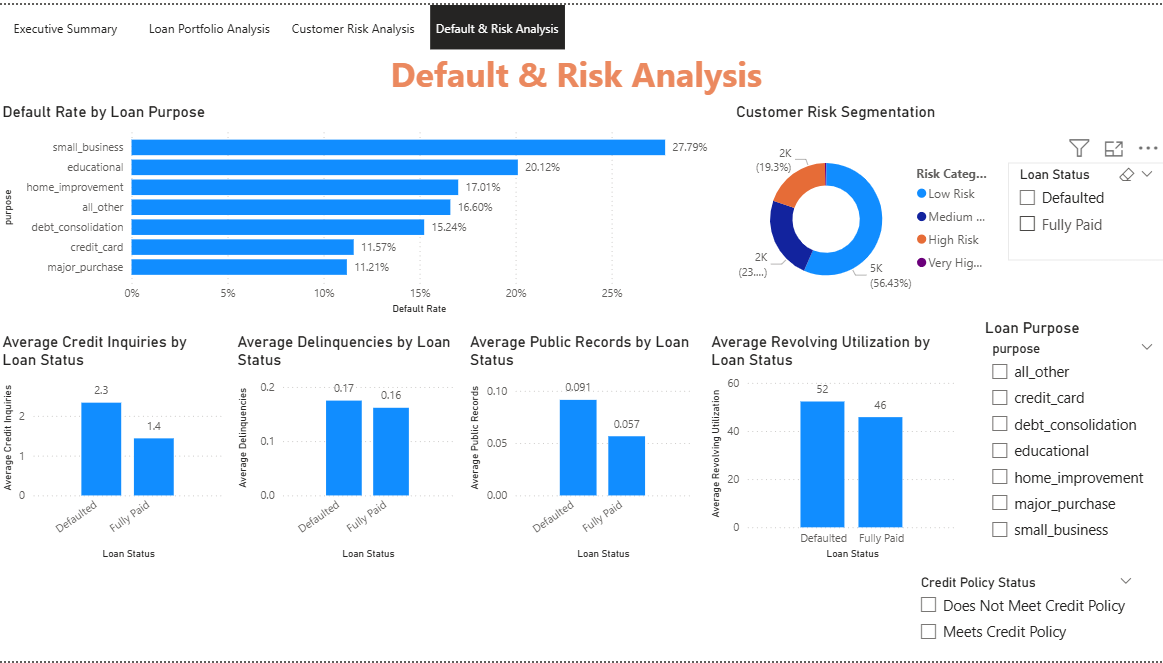

The page's visual inventory and layout, read from the dashboard file:
{"tool":"powerbi","page":{"name":"Default & Risk Analysis","canvas":[1280,720],"ordinal":3},"visuals":[{"type":"clusteredBarChart","title":"Default Rate by Loan Purpose","fields":{"Category":["loan_data.purpose"],"Y":["Mtable.Default Rate"]},"box":[0,107,795.9,237.4],"z":0},{"type":"clusteredColumnChart","title":"Average Revolving Utilization by Loan Status","fields":{"Category":["loan_data.Loan Status"],"Y":["Mtable.Average Revolving Utilization"]},"box":[778,359.5,279.9,253.9],"z":1000},{"type":"clusteredColumnChart","title":"Average Credit Inquiries by Loan Status","fields":{"Y":["Mtable.Average Credit Inquiries"],"Category":["loan_data.Loan Status"]},"box":[0,359.5,252.5,253.9],"z":2000},{"type":"clusteredColumnChart","title":"Average Delinquencies by Loan Status","fields":{"Y":["Mtable.Average Delinquencies"],"Category":["loan_data.Loan Status"]},"box":[258,359.5,247,253.9],"z":3000},{"type":"clusteredColumnChart","title":"Average Public Records by Loan Status","fields":{"Y":["Mtable.Average Public Records"],"Category":["loan_data.Loan Status"]},"box":[513.2,359.5,252.5,253.9],"z":4000},{"type":"donutChart","title":"Customer Risk Segmentation","fields":{"Category":["loan_data.Risk Category"],"Y":["Mtable.Total Loan Applications"]},"box":[805.5,107,293.7,237.4],"z":5000},{"type":"slicer","title":"Loan Purpose","fields":{"Values":["loan_data.purpose"]},"box":[1078.6,344.4,201.7,267.6],"z":6000},{"type":"slicer","fields":{"Values":["loan_data.Credit Policy Status"]},"box":[1000.3,620.2,256.6,100.2],"z":7000},{"type":"slicer","fields":{"Values":["loan_data.Loan Status"]},"box":[1108.8,172.9,171.5,107],"z":8000},{"type":"textbox","box":[351.3,45.3,566.7,61.7],"z":9000},{"type":"pageNavigator","box":[0,0,625.7,49.4],"z":9001}]}

Visuals, with their boxes in screenshot pixels (x1, y1, x2, y2), scaled from the page's 1280x720 canvas onto the 1163x663 screenshot:
"Default Rate by Loan Purpose" clusteredBarChart: box(0, 99, 723, 317)
"Average Revolving Utilization by Loan Status" clusteredColumnChart: box(707, 331, 961, 565)
"Average Credit Inquiries by Loan Status" clusteredColumnChart: box(0, 331, 229, 565)
"Average Delinquencies by Loan Status" clusteredColumnChart: box(234, 331, 459, 565)
"Average Public Records by Loan Status" clusteredColumnChart: box(466, 331, 696, 565)
"Customer Risk Segmentation" donutChart: box(732, 99, 999, 317)
"Loan Purpose" slicer: box(980, 317, 1162, 564)
slicer - loan_data.Credit Policy Status: box(909, 571, 1142, 662)
slicer - loan_data.Loan Status: box(1007, 159, 1162, 258)
textbox: box(319, 42, 834, 99)
pageNavigator: box(0, 0, 569, 45)
